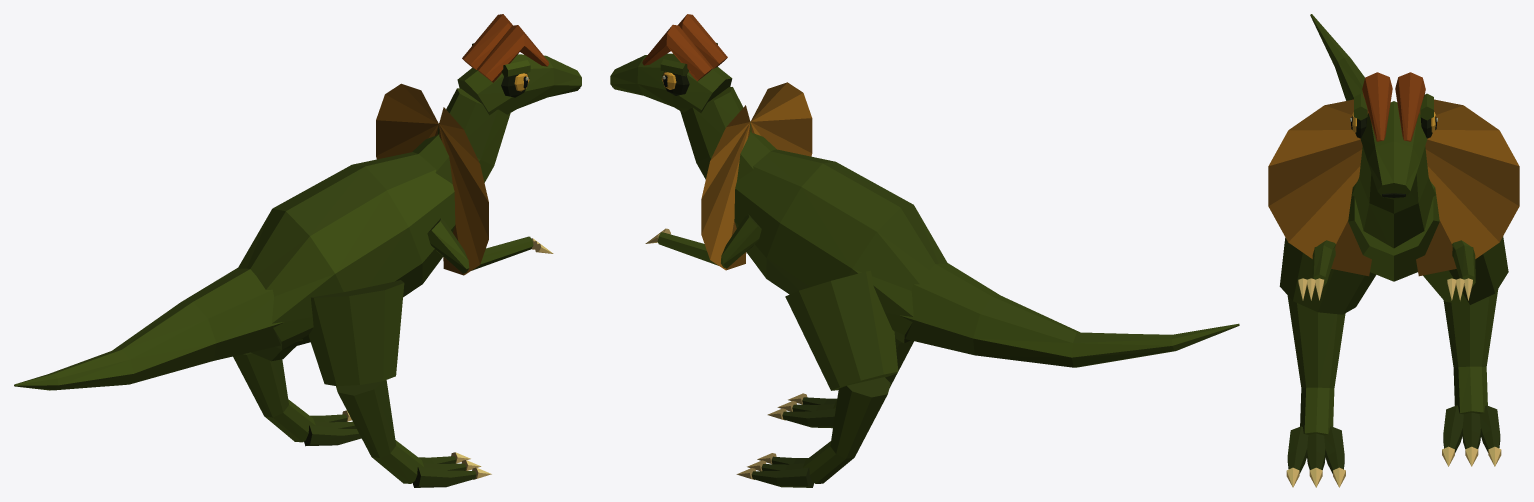
File: SM_dilophosaurus.fbx
3 renders of one model, left to right at view 1: azimuth 30°, elevation 25°; view 2: azimuth 150°, elevation 25°; view 3: azimuth 270°, elevation 25°, orthographic. The views are drawn at different scales.
Visible parts, largest first — view 1: SM_dilophosaurus • FBX; view 2: SM_dilophosaurus • FBX; view 3: SM_dilophosaurus • FBX.
Part boxes in pixels (left/top/right/bottom): SM_dilophosaurus • FBX: left=14, top=14, right=581, bottom=487; SM_dilophosaurus • FBX: left=610, top=14, right=1239, bottom=487; SM_dilophosaurus • FBX: left=1268, top=14, right=1519, bottom=487.
Bounding box in the file's own units: 930 × 304 × 606.
